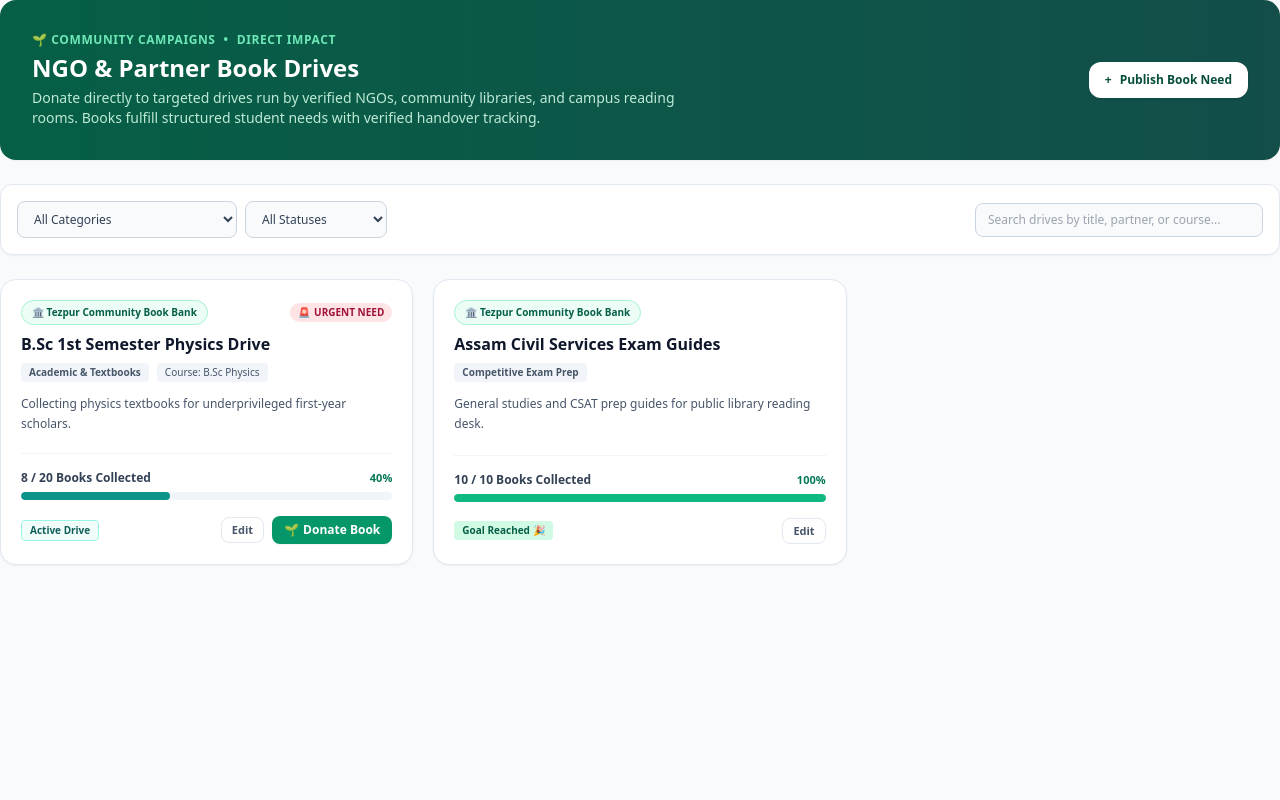
it: CampaignNeedsView Component (CS-014 NGO Book Needs) › allows admin to edit an existing book campaign need
Later steps or results of the test are not shown.
# Open edit modal for need-1
Click the button with test id "edit-need-btn-need-1": (242, 530) [221,517,264,543]
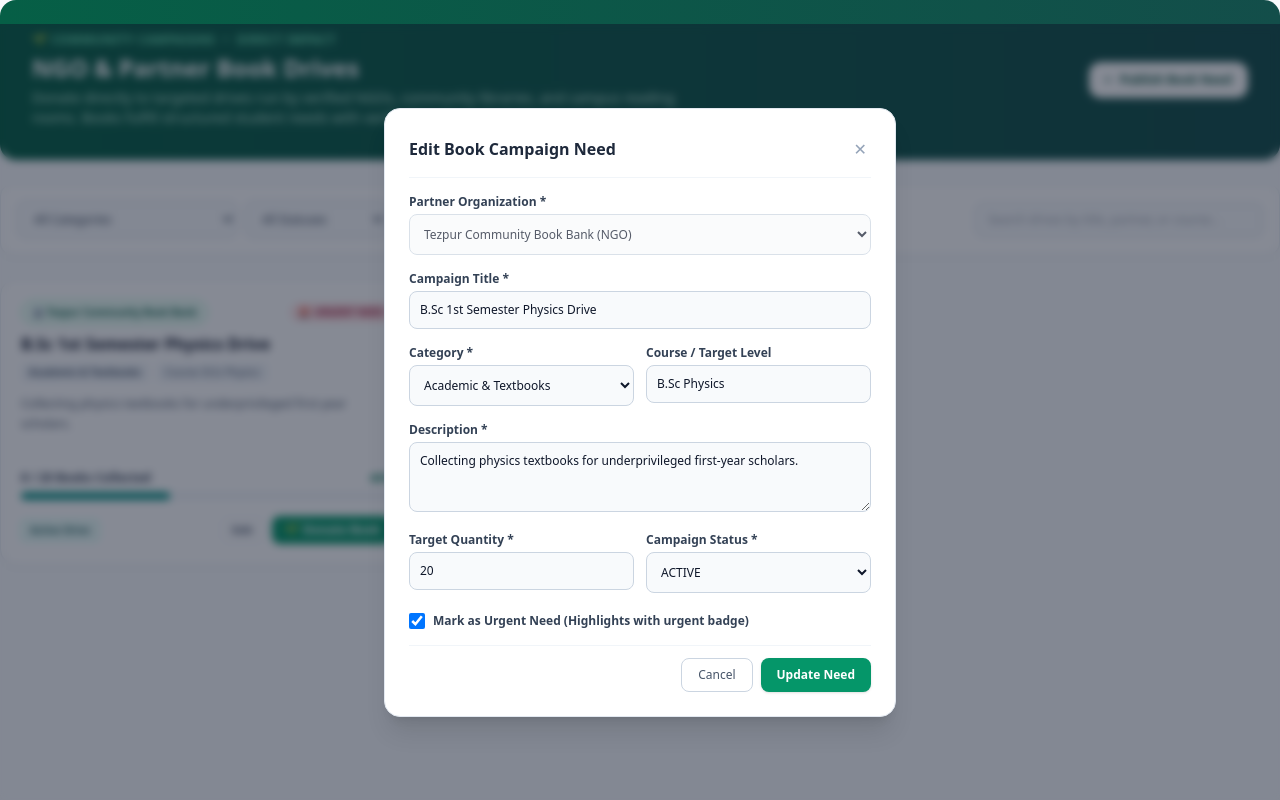
Expected: the element with test id "campaign-need-modal" is shown
Expected: the field with test id "need-title-input" holds "B.Sc 1st Semester Physics Drive", [409,290,871,328]
